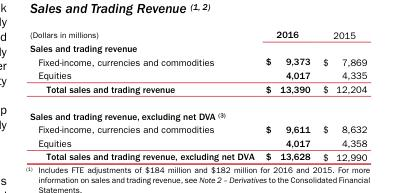table: (29, 28, 366, 161)
table column: (29, 28, 259, 161), (259, 28, 315, 161), (315, 28, 366, 161)
table column header: (29, 28, 366, 40)
table projected row header: (29, 101, 366, 122), (29, 40, 366, 54)
table row: (29, 101, 366, 122), (29, 81, 366, 101), (29, 40, 366, 54), (29, 54, 366, 68), (29, 135, 366, 149), (29, 68, 366, 81), (29, 122, 366, 135), (29, 28, 366, 40), (29, 149, 366, 161)
